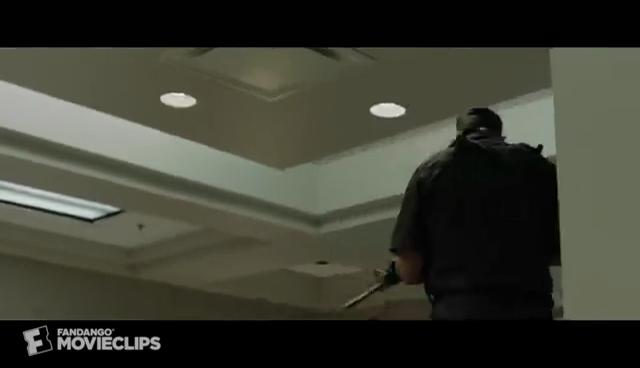criminal: (342, 108, 562, 319)
weapon: (343, 257, 402, 309)
